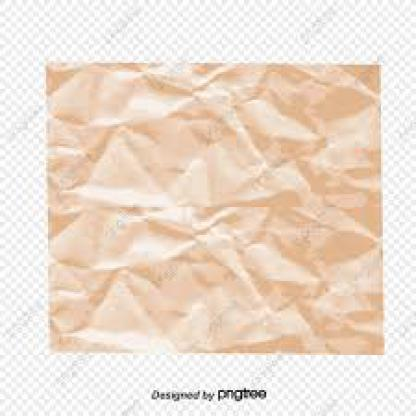paper: (43, 59, 382, 353)
